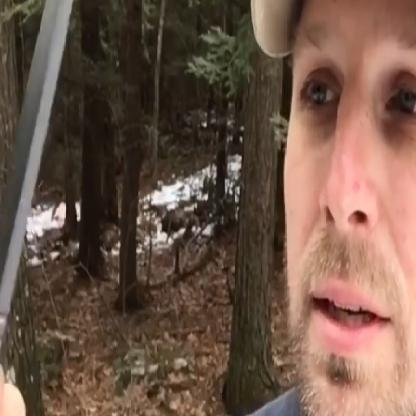knife: (0, 0, 107, 415)
